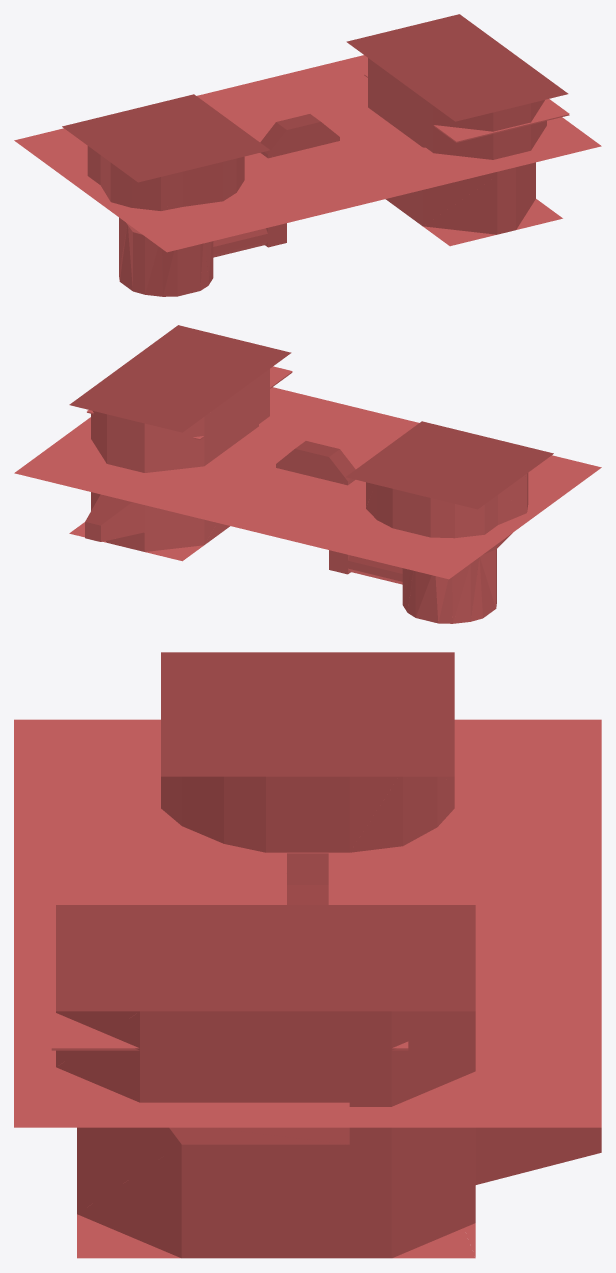
Rendered from water_land.glb.
3 views of the same model, one above another, from view 1: azimuth 30°, elevation 25°; view 2: azimuth 150°, elevation 25°; view 3: azimuth 270°, elevation 25° (orthographic). The views are drawn at different scales.
Visible parts, largest first — view 1: water_land_col; view 2: water_land_col; view 3: water_land_col.
Part boxes in pixels (x1,y1,x2,y2): water_land_col: (14, 14, 601, 296); water_land_col: (14, 325, 601, 623); water_land_col: (14, 652, 601, 1258).
Size of the model in its own units: 23 by 7.52 by 14.01.
